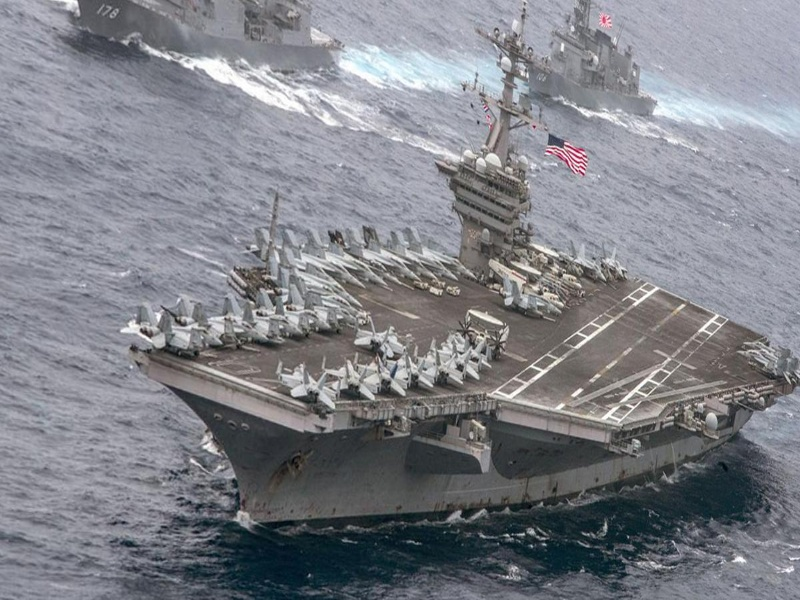carrier: (156, 117, 800, 533)
cruise: (82, 2, 349, 75), (529, 5, 662, 119)
